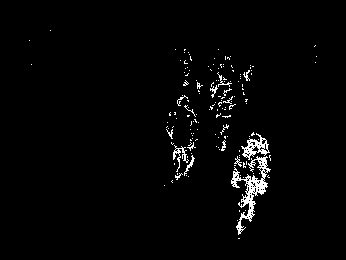person: (230, 129, 270, 238), (165, 93, 199, 182), (209, 66, 236, 153)
